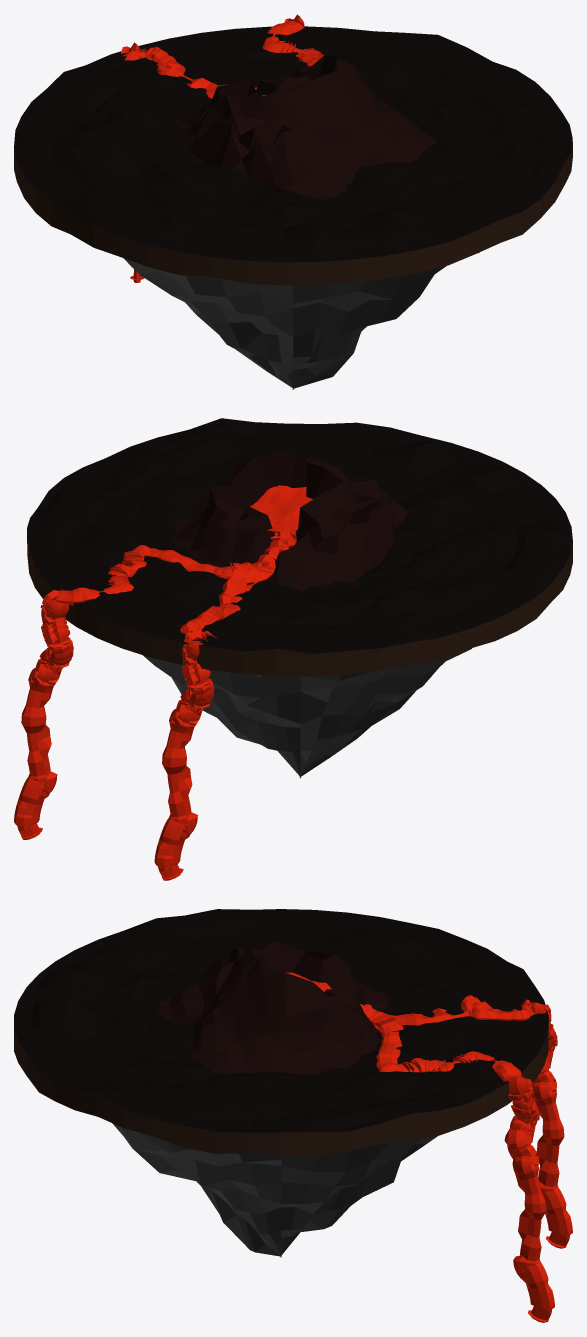
File: FireWorldIsland.FBX
3 views of the same model, one above another, from view 1: azimuth 30°, elevation 25°; view 2: azimuth 150°, elevation 25°; view 3: azimuth 270°, elevation 25° (orthographic). The views are drawn at different scales.
Parts seen in each view (by area): view 1: Base, Volcano, under, BaseFlame, LavaFall, LavaFall3; view 2: Base, Volcano, under, BaseFlame, LavaFall_2_3, LavaFall_1, LavaFall, LavaFall3, Lava; view 3: Base, Volcano, under, BaseFlame, LavaFall_2_3, LavaFall_1, LavaFall3, LavaFall.
Part boxes in pixels (x1,y1,x2,y2): Base: (14,26,572,262); Volcano: (174,55,436,199); under: (124,252,479,389); BaseFlame: (14,141,572,285); LavaFall: (122,46,227,98); LavaFall3: (254,19,323,89); Base: (27,418,572,653); Volcano: (171,452,408,591); under: (143,648,471,778); BaseFlame: (27,532,572,676); LavaFall_2_3: (14,590,73,839); LavaFall_1: (154,631,214,880); LavaFall: (180,530,296,641); LavaFall3: (56,545,252,605); Lava: (250,485,313,532); Base: (14,909,548,1132); Volcano: (158,941,388,1074); under: (112,1123,437,1257); BaseFlame: (14,1029,548,1156); LavaFall_2_3: (504,1076,554,1322); LavaFall_1: (527,1002,572,1248); LavaFall3: (370,1012,525,1081); LavaFall: (360,995,537,1025).
Bounding box in the file's own units: 220 × 139 × 230.
